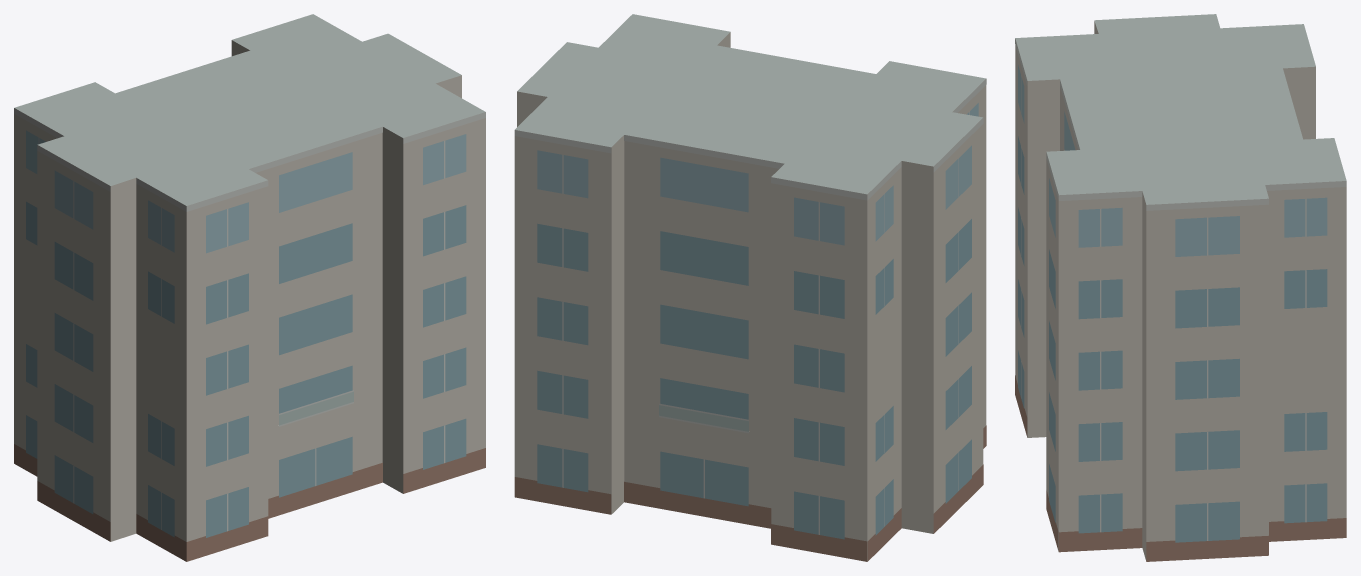
Rendered from survey-upis-32746763.glb.
3 views of the same model, side by side, from view 1: azimuth 30°, elevation 25°; view 2: azimuth 150°, elevation 25°; view 3: azimuth 270°, elevation 25° (orthographic). The views are drawn at different scales.
Visible parts, largest first — view 1: survey-upis-32746763.tmp; view 2: survey-upis-32746763.tmp; view 3: survey-upis-32746763.tmp.
Boxes of the visible parts, x1,y1,x2,y2 form: survey-upis-32746763.tmp: (14,14,485,561); survey-upis-32746763.tmp: (514,14,986,561); survey-upis-32746763.tmp: (1015,14,1346,561).
Bounding box in the file's own units: 16.75 × 14.6 × 12.3.
